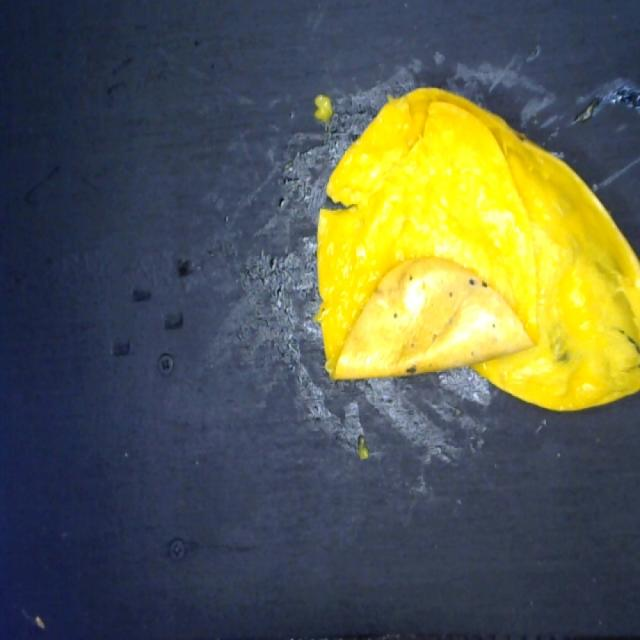biodegradable: (307, 71, 640, 417)
